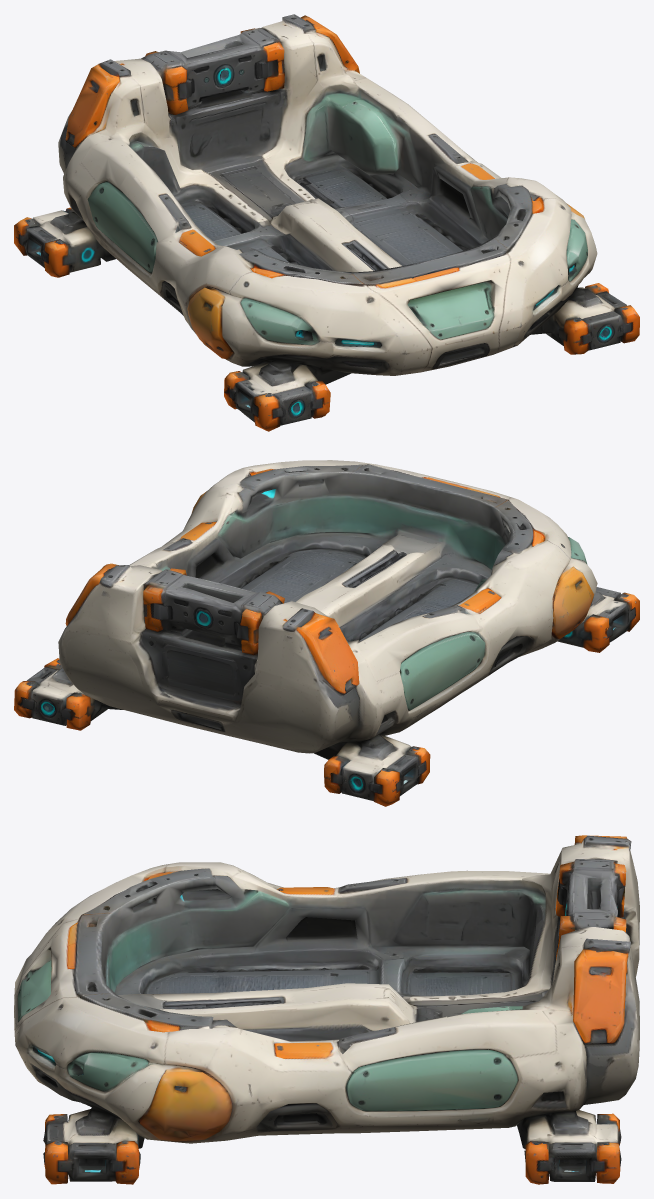
File: futuristic vehicle 3d model.glb
The picture shows the model from 3 angles, top to bottom: view 1: azimuth 30°, elevation 25°; view 2: azimuth 150°, elevation 25°; view 3: azimuth 270°, elevation 25°; orthographic projection. The views are drawn at different scales.
Parts seen in each view (by area): view 1: tripo_node_05edafe2-294f-4c2e-8ca4-719a6ea68962; view 2: tripo_node_05edafe2-294f-4c2e-8ca4-719a6ea68962; view 3: tripo_node_05edafe2-294f-4c2e-8ca4-719a6ea68962.
Boxes of the visible parts, x1,y1,x2,y2 form: tripo_node_05edafe2-294f-4c2e-8ca4-719a6ea68962: (14, 14, 639, 431); tripo_node_05edafe2-294f-4c2e-8ca4-719a6ea68962: (14, 460, 639, 806); tripo_node_05edafe2-294f-4c2e-8ca4-719a6ea68962: (14, 835, 639, 1184).
Size of the model in its own units: 0.8091 by 0.3406 by 1.
1 material, 1 textured.
